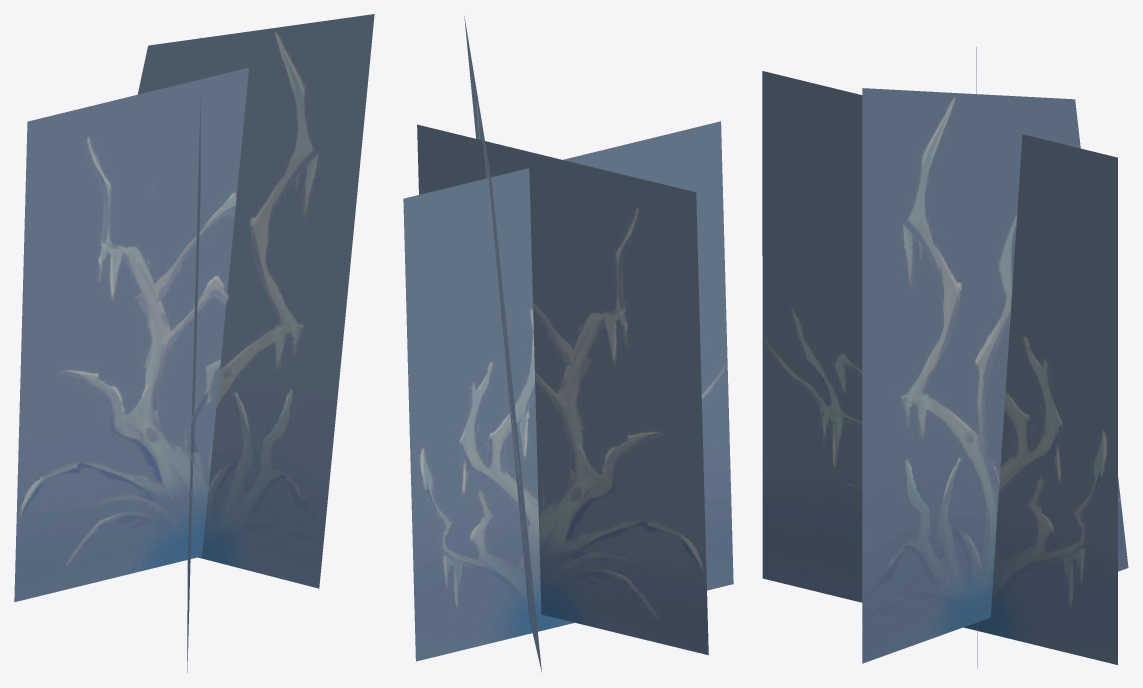
Rendered from gumu_02.FBX.
3 views of the same model, side by side, from view 1: azimuth 30°, elevation 25°; view 2: azimuth 150°, elevation 25°; view 3: azimuth 270°, elevation 25° (orthographic). The views are drawn at different scales.
Visible parts, largest first — view 1: Object055; view 2: Object055; view 3: Object055.
Part boxes in pixels (<box>): Object055: <box>14,14,374,672</box>; Object055: <box>403,16,733,672</box>; Object055: <box>762,47,1128,668</box>.
Size of the model in its own units: 99.94 by 177 by 95.73.
